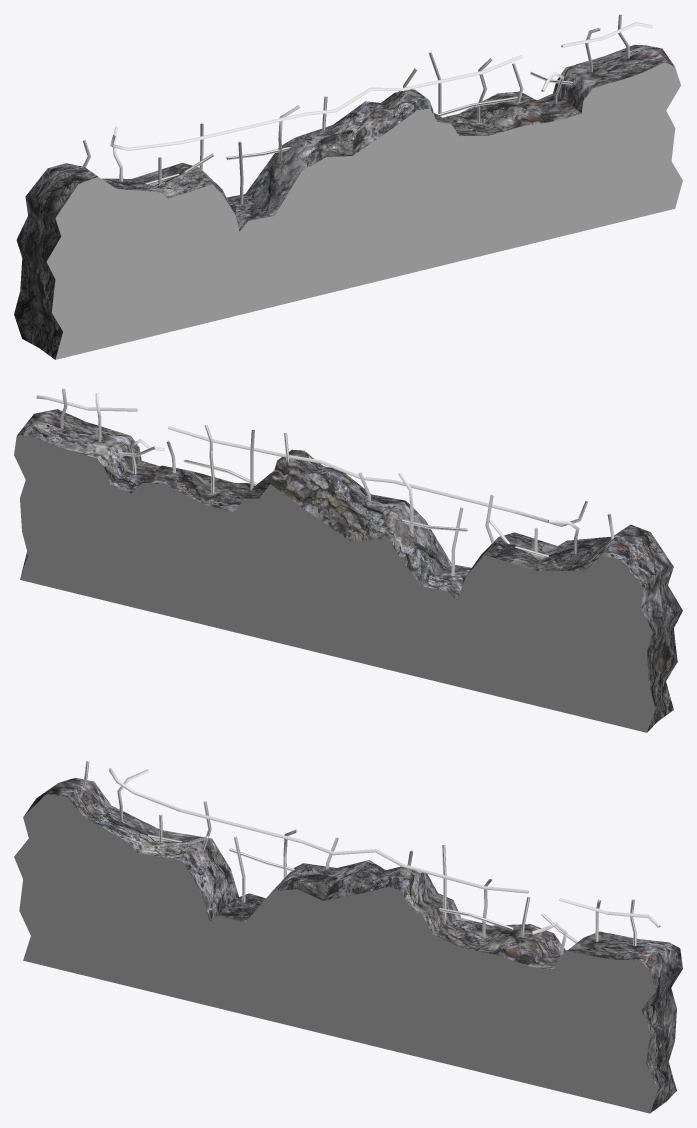
The model's file is Debris6_LOD1.fbx.
The picture shows the model from 3 angles, top to bottom: view 1: azimuth 30°, elevation 25°; view 2: azimuth 150°, elevation 25°; view 3: azimuth 330°, elevation 25°; orthographic projection.
Visible parts, largest first — view 1: polySurface1455; view 2: polySurface1455; view 3: polySurface1455.
Part boxes in pixels (x1,y1,x2,y2): polySurface1455: (14, 14, 682, 359); polySurface1455: (14, 388, 682, 732); polySurface1455: (14, 761, 682, 1113).
Size of the model in its own units: 8.12 by 2.41 by 0.7065.
